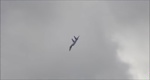maybay_muctieu: (68, 34, 80, 51)
